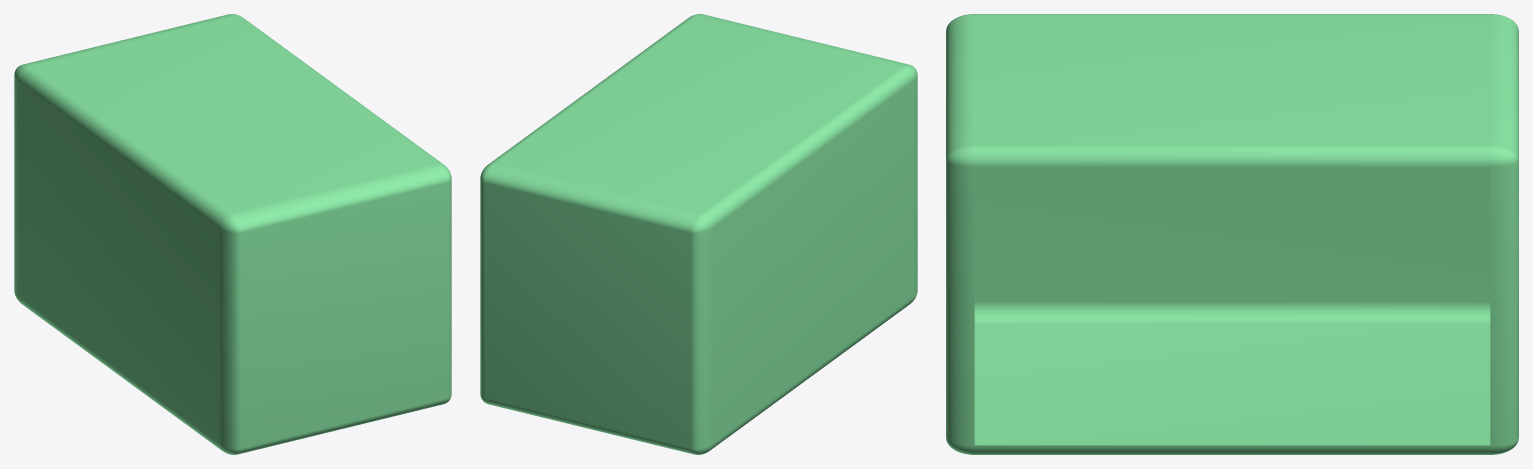
The model's file is cabinet.glb.
The picture shows the model from 3 angles, left to right: view 1: azimuth 30°, elevation 25°; view 2: azimuth 150°, elevation 25°; view 3: azimuth 270°, elevation 25°; orthographic projection. The views are drawn at different scales.
Visible parts, largest first — view 1: Cube; view 2: Cube; view 3: Cube.
Part boxes in pixels (box(x1,y1,x2,y2)): Cube: box(14, 14, 451, 454); Cube: box(480, 14, 917, 454); Cube: box(946, 14, 1518, 454).
Size of the model in its own units: 2 by 2 by 3.37.
